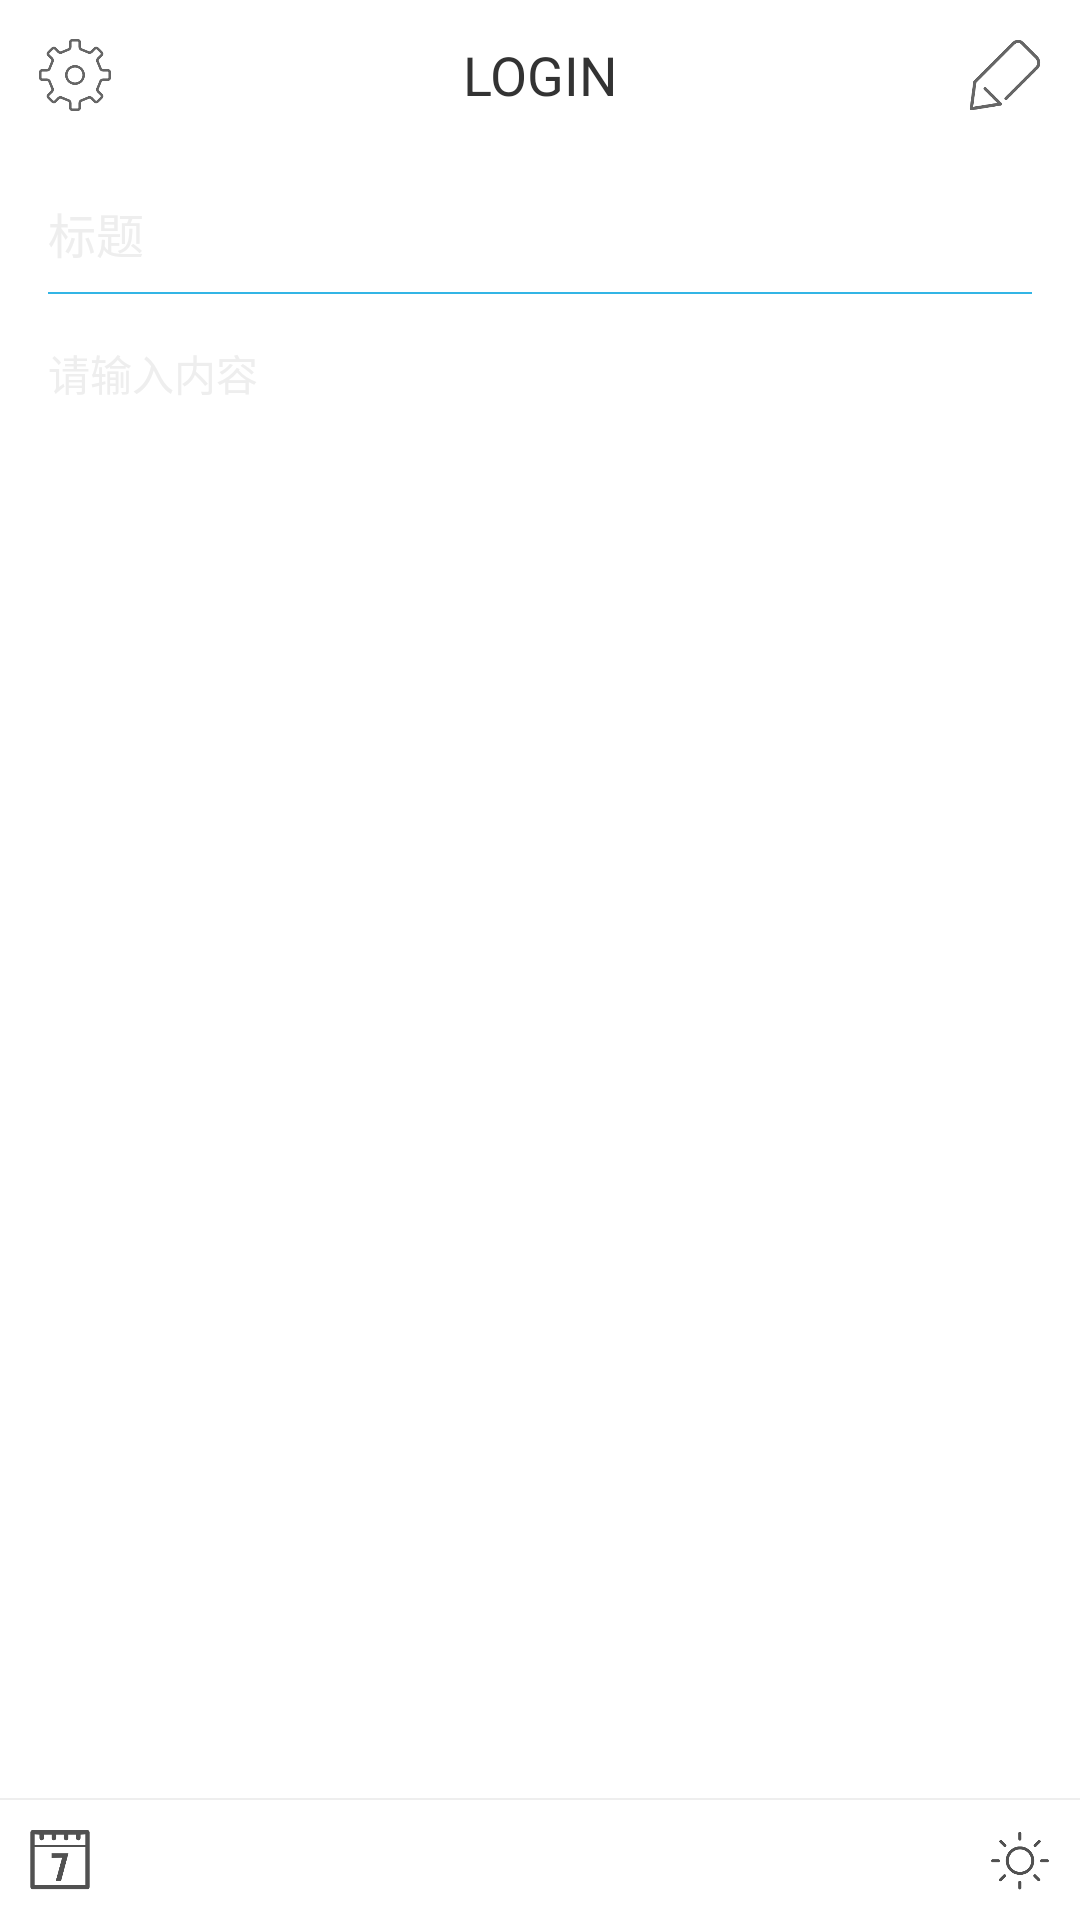

Where to tap for icons on this 1080px x 1920px app screen, as (x=x, y=y):
calendar: (x=60, y=1859)
edit: (x=1005, y=75)
settings: (x=75, y=75)
weather: (x=1020, y=1861)
